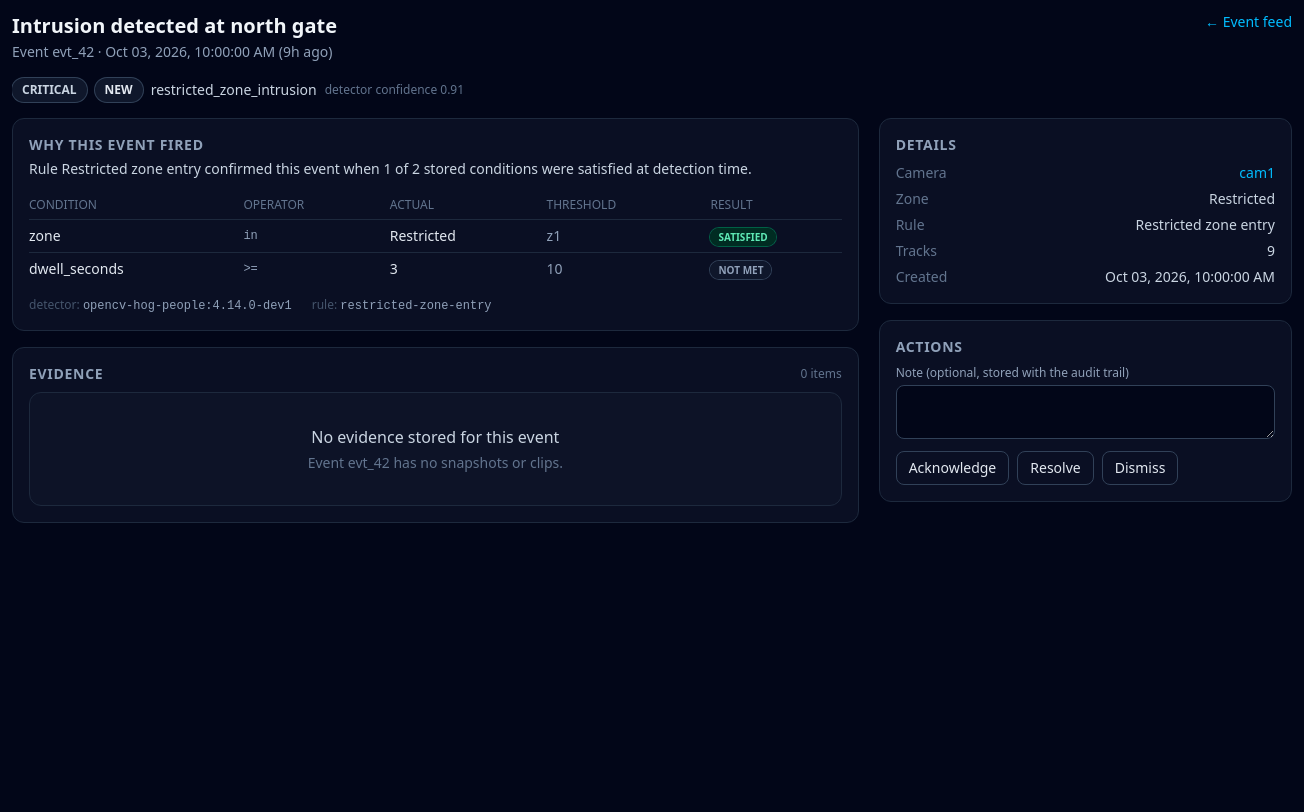
Test case: operator acknowledge posts the transition
The image size is (1304, 812).
Expected: the table with test id "conditions-table" is shown, [29,191,842,285]
Click the button with test id "action-acknowledged": (952, 468) [896,451,1009,485]
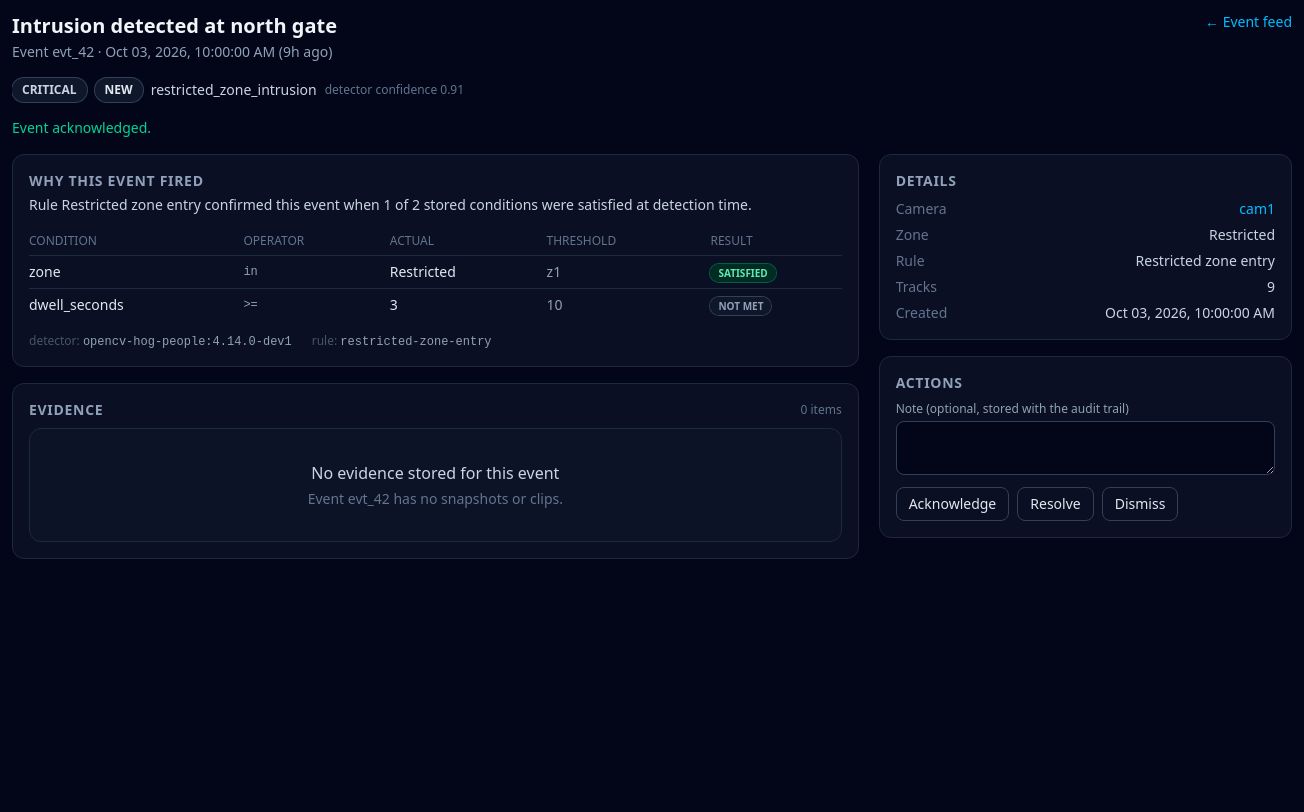
Expected: the text "Event acknowledged." is shown, [12,118,151,137]
